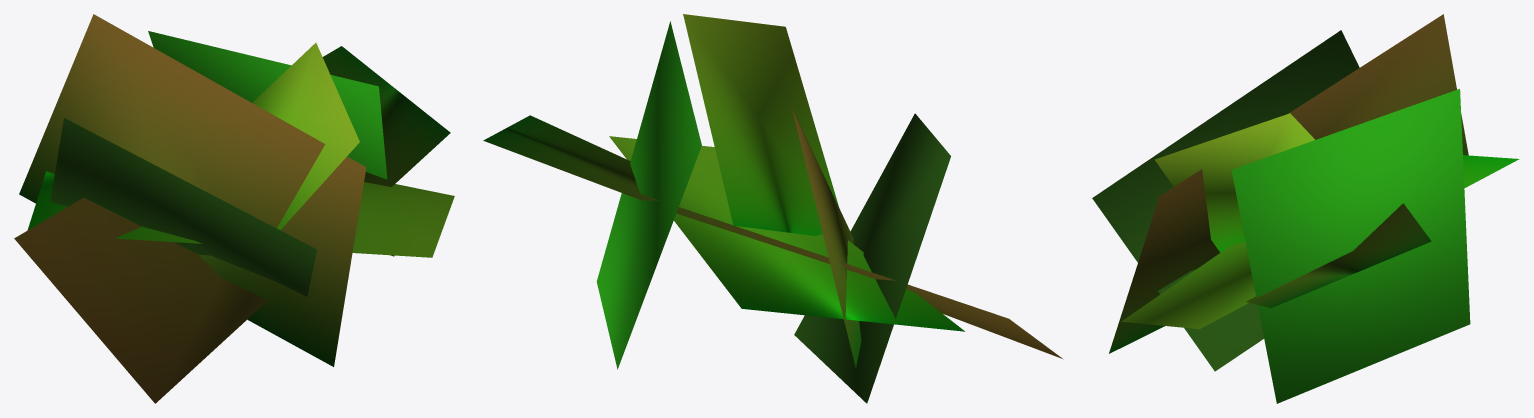
Rendered from bush3_LOD2.fbx.
The picture shows the model from 3 angles, left to right: view 1: azimuth 30°, elevation 25°; view 2: azimuth 150°, elevation 25°; view 3: azimuth 270°, elevation 25°; orthographic projection. The views are drawn at different scales.
Visible parts, largest first — view 1: bush3_LOD2; view 2: bush3_LOD2; view 3: bush3_LOD2.
Boxes of the visible parts, box(x1,y1,x2,y2) form: bush3_LOD2: box(14, 14, 454, 403); bush3_LOD2: box(483, 14, 1063, 403); bush3_LOD2: box(1092, 14, 1519, 403).
Bounding box in the file's own units: 232 × 151 × 194.
